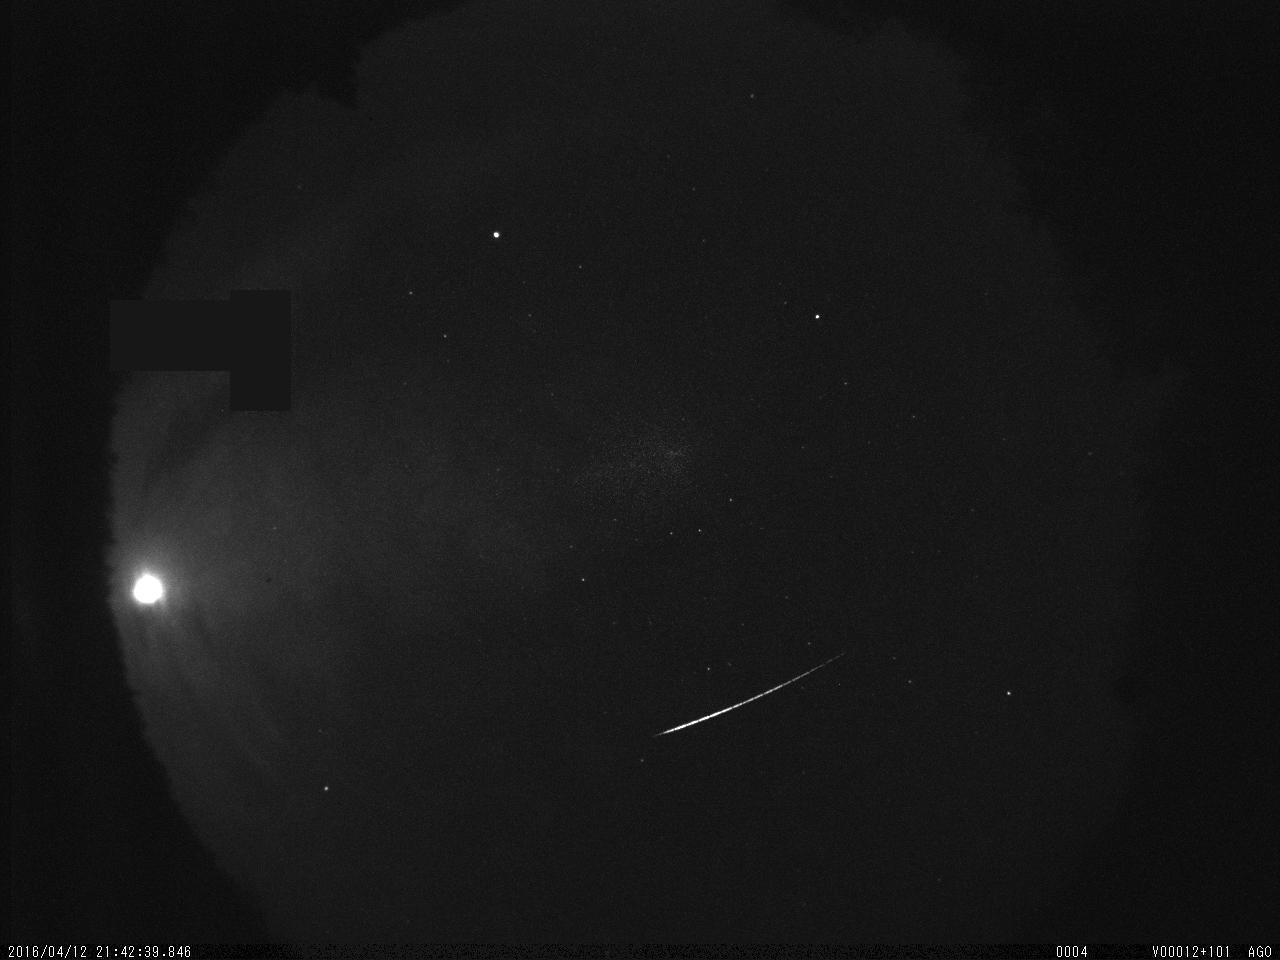Meteor: (644, 640, 862, 749)
